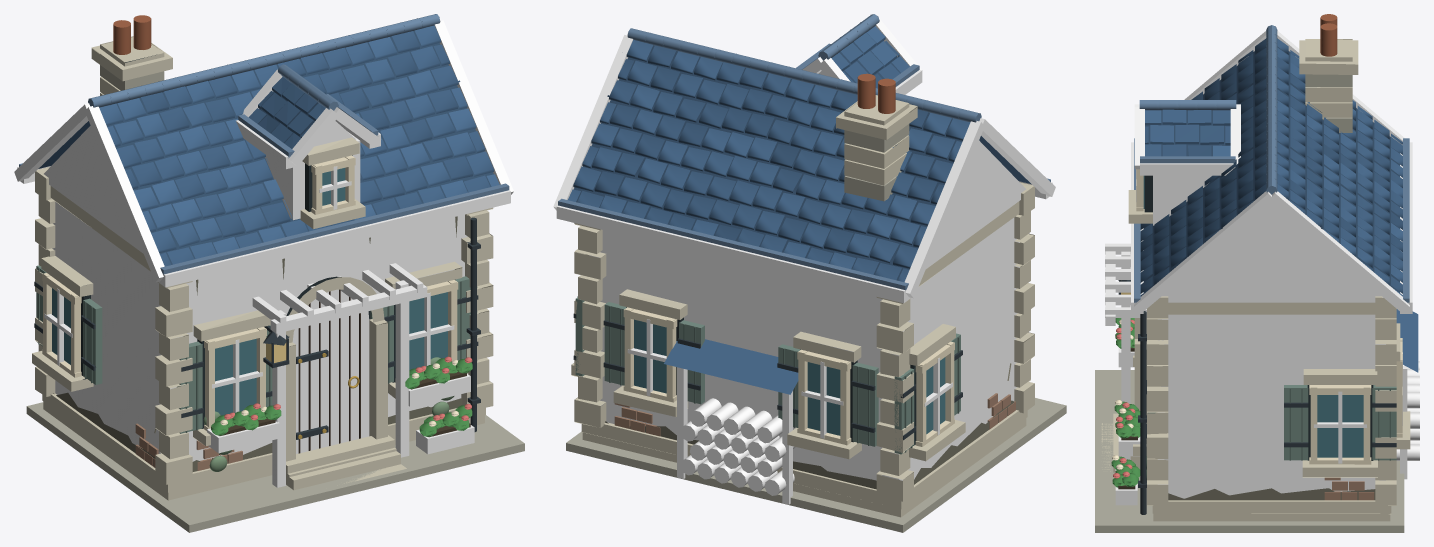
File: garden_house.glb
3 views of the same model, side by side, from view 1: azimuth 30°, elevation 25°; view 2: azimuth 150°, elevation 25°; view 3: azimuth 270°, elevation 25° (orthographic). The views are drawn at different scales.
Parts seen in each view (by area): view 1: SourceMesh_00056, SourceMesh_00005, SourceMesh_00000, SourceMesh_00106, SourceMesh_00047, SourceMesh_00048, SourceMesh_00050, SourceMesh_00006, SourceMesh_00049, SourceMesh_00099, SourceMesh_00052, SourceMesh_00310 (+52 smaller); view 2: SourceMesh_00056, SourceMesh_00005, SourceMesh_00044, SourceMesh_00000, SourceMesh_00045, SourceMesh_00050, SourceMesh_00006, SourceMesh_00374, SourceMesh_00046, SourceMesh_00051, SourceMesh_00001, SourceMesh_00099 (+49 smaller); view 3: SourceMesh_00005, SourceMesh_00056, SourceMesh_00053, SourceMesh_00000, SourceMesh_00099, SourceMesh_00044, SourceMesh_00006, SourceMesh_00007, SourceMesh_00214, SourceMesh_00054, SourceMesh_00055, SourceMesh_00047 (+56 smaller).
Part boxes in pixels (x1,y1,x2,y2): SourceMesh_00056: (99,25,499,266); SourceMesh_00005: (52,202,478,461); SourceMesh_00000: (26,402,524,532); SourceMesh_00106: (292,289,369,453); SourceMesh_00047: (107,31,493,264); SourceMesh_00048: (158,190,510,287); SourceMesh_00050: (44,126,143,253); SourceMesh_00006: (42,393,485,492); SourceMesh_00049: (160,183,509,274); SourceMesh_00099: (249,77,325,148); SourceMesh_00052: (85,106,164,282); SourceMesh_00310: (395,280,409,457); SourceMesh_00056: (568,40,969,282); SourceMesh_00005: (589,217,1019,480); SourceMesh_00044: (573,45,962,280); SourceMesh_00000: (566,398,1066,532); SourceMesh_00045: (556,205,910,303); SourceMesh_00050: (926,140,1025,268); SourceMesh_00006: (581,410,1027,509); SourceMesh_00374: (664,339,798,394); SourceMesh_00046: (558,198,908,290); SourceMesh_00051: (904,121,983,298); SourceMesh_00001: (582,418,1026,517); SourceMesh_00099: (831,26,909,88); SourceMesh_00005: (1157,314,1385,498); SourceMesh_00056: (1140,38,1402,296); SourceMesh_00053: (1162,203,1383,302); SourceMesh_00000: (1095,370,1404,532); SourceMesh_00099: (1145,109,1230,156); SourceMesh_00044: (1277,47,1399,292); SourceMesh_00006: (1152,500,1391,514); SourceMesh_00007: (1168,302,1375,314); SourceMesh_00214: (1317,395,1363,457); SourceMesh_00054: (1269,191,1409,313); SourceMesh_00055: (1134,191,1274,313); SourceMesh_00047: (1143,47,1266,292).
Bounding box in the file's own units: 5.29 × 5.78 × 4.41.
